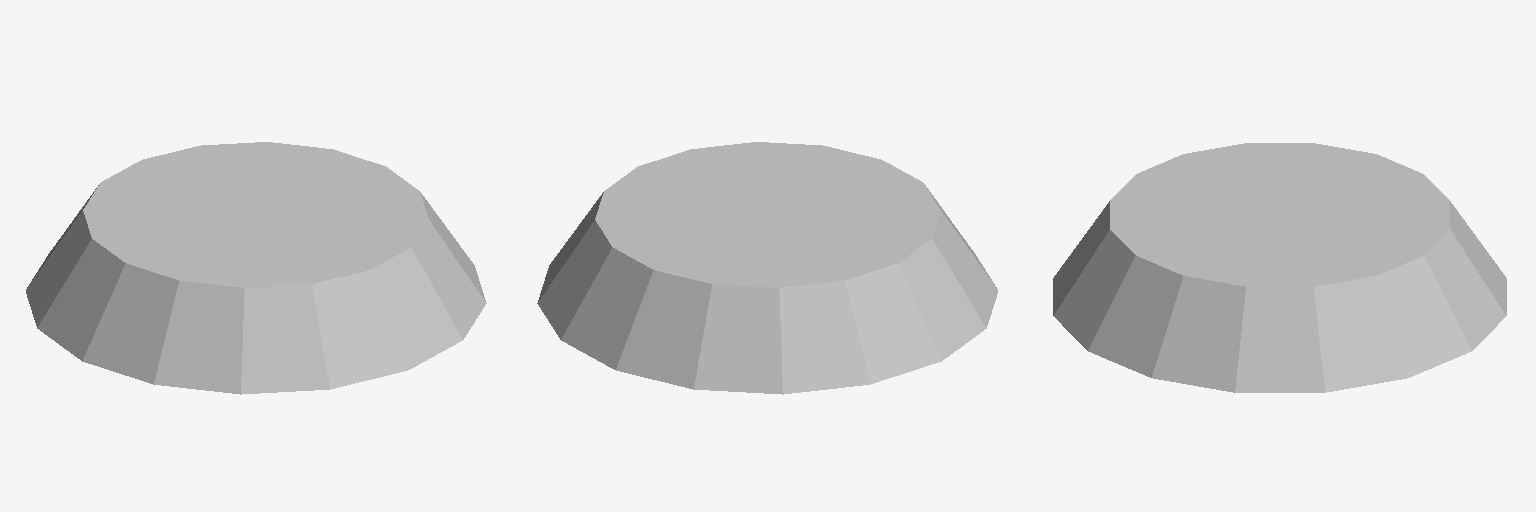
File: vega_adapter_s1_s0p5_1_collider.obj
3 views of the same model, side by side, from view 1: azimuth 30°, elevation 25°; view 2: azimuth 150°, elevation 25°; view 3: azimuth 270°, elevation 25° (orthographic).
Visible parts, largest first — view 1: vega_adapter_s1_s0p5_1_collider; view 2: vega_adapter_s1_s0p5_1_collider; view 3: vega_adapter_s1_s0p5_1_collider.
Part boxes in pixels (x1,y1,x2,y2): vega_adapter_s1_s0p5_1_collider: (26, 142, 486, 394); vega_adapter_s1_s0p5_1_collider: (537, 142, 997, 394); vega_adapter_s1_s0p5_1_collider: (1053, 143, 1506, 392).
Size of the model in its own units: 1.25 by 0.25 by 1.25.